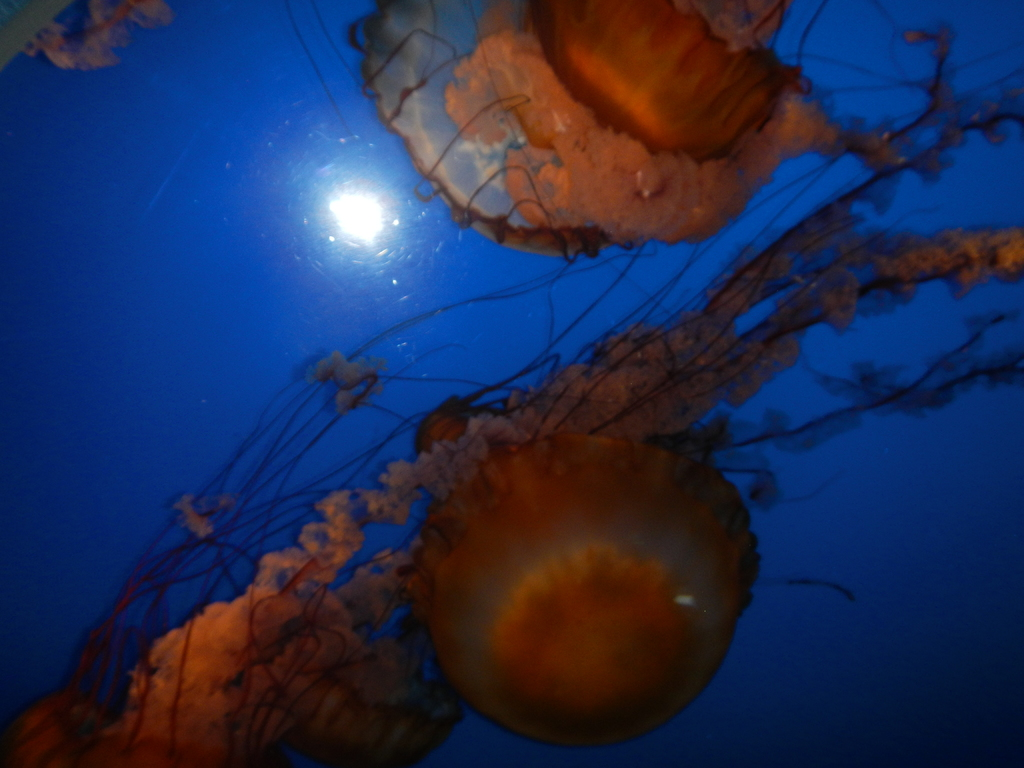Jellyfish: (320, 39, 1023, 748), (0, 236, 778, 767), (342, 0, 952, 259)
